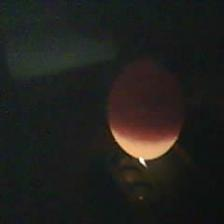fertile: (102, 55, 188, 163)
